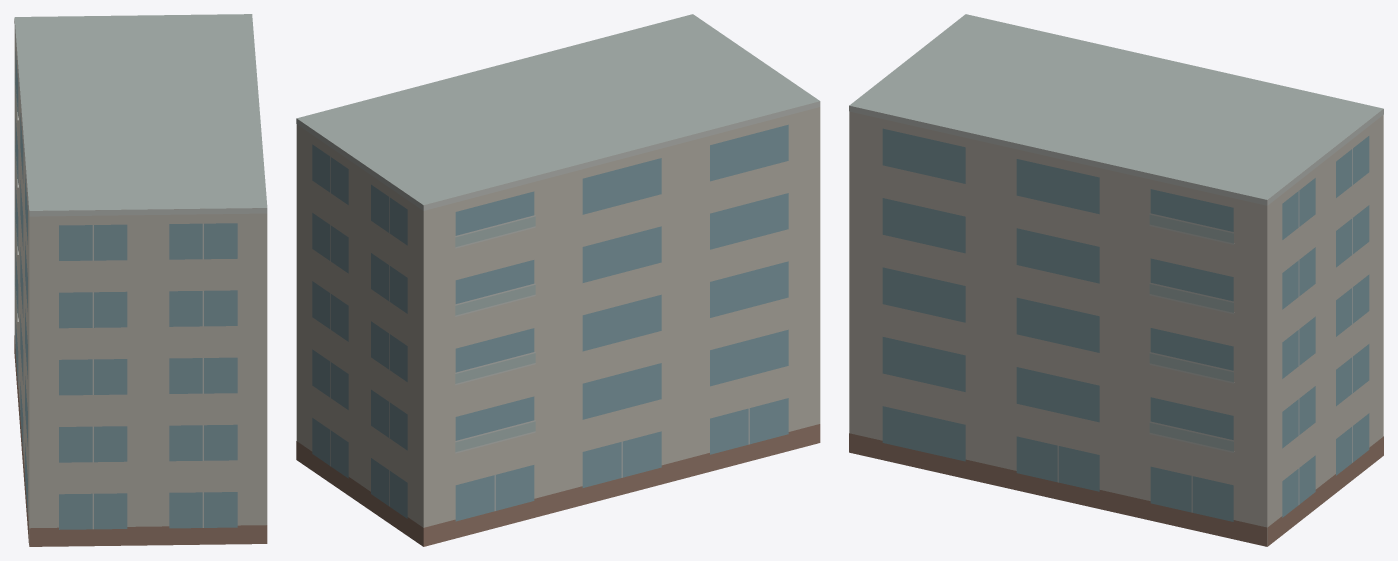
Rendered from survey-upis-32656140.glb.
The picture shows the model from 3 angles, left to right: view 1: azimuth 30°, elevation 25°; view 2: azimuth 150°, elevation 25°; view 3: azimuth 270°, elevation 25°; orthographic projection. The views are drawn at different scales.
Visible parts, largest first — view 1: survey-upis-32656140.tmp; view 2: survey-upis-32656140.tmp; view 3: survey-upis-32656140.tmp.
Part boxes in pixels (<box>): survey-upis-32656140.tmp: <box>14,14,267,546</box>; survey-upis-32656140.tmp: <box>296,14,820,546</box>; survey-upis-32656140.tmp: <box>849,14,1383,546</box>.
Bounding box in the file's own units: 16.68 × 14.5 × 20.26.
